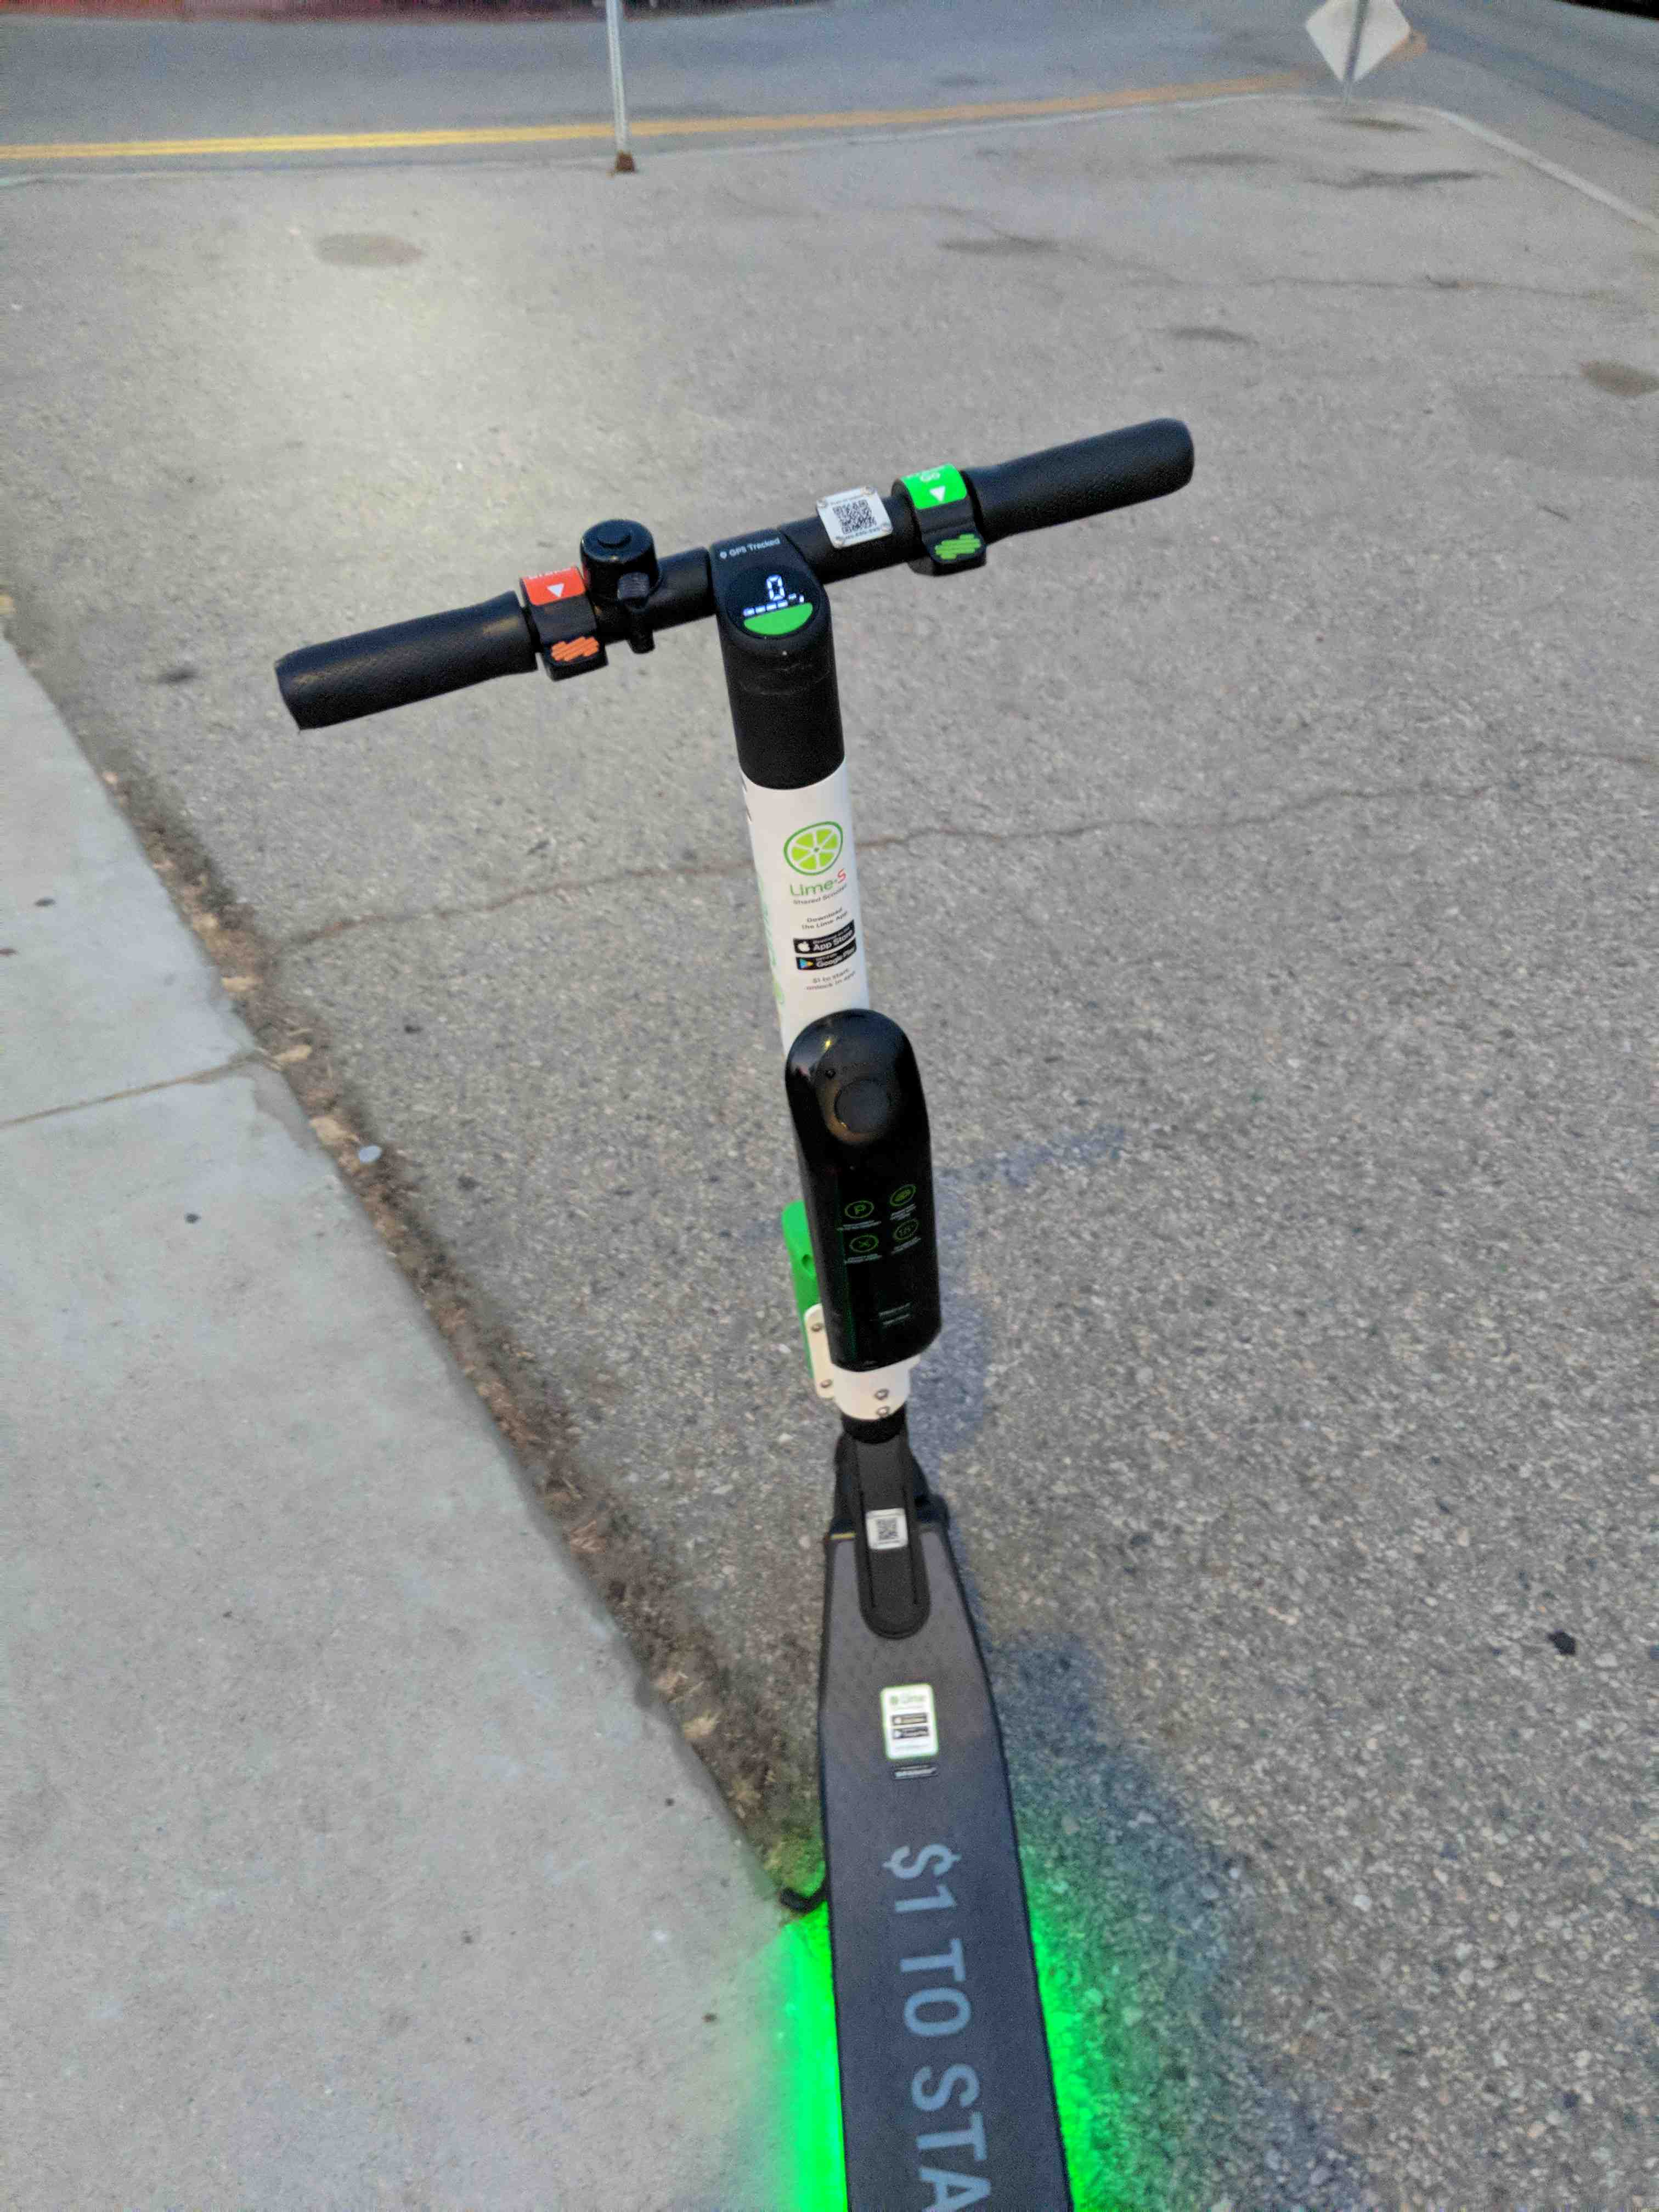scooter: (260, 413, 1262, 2212)
